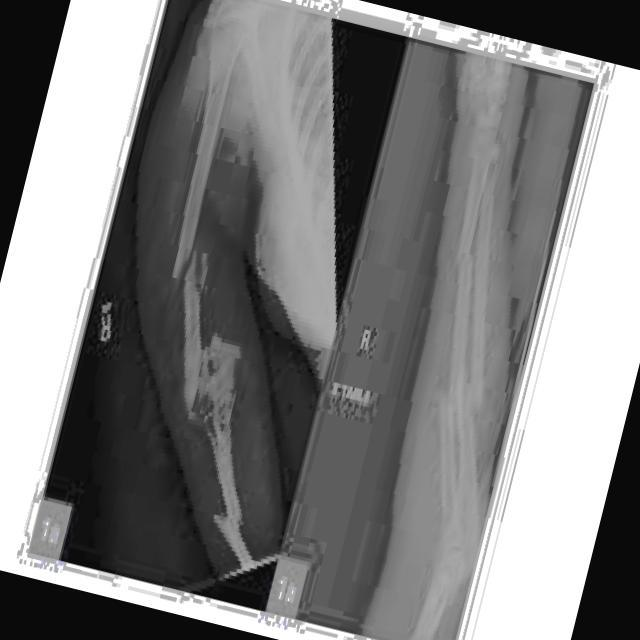Comminuted Fracture: (428, 368, 496, 436), (169, 235, 209, 292), (199, 494, 254, 534), (444, 228, 480, 276)
